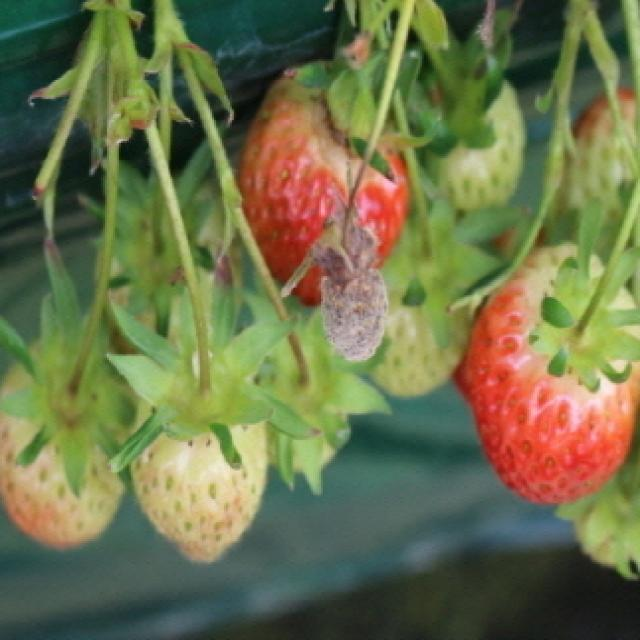Gray Mold: (280, 210, 389, 363)
